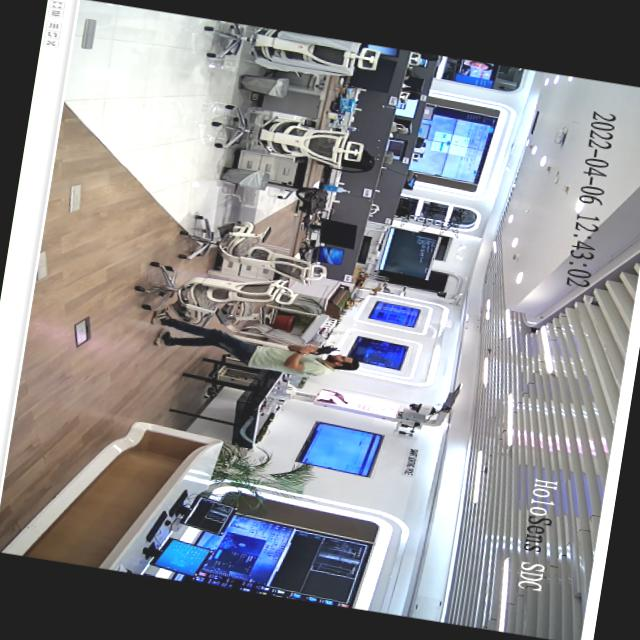long weapon: (288, 336, 348, 365)
